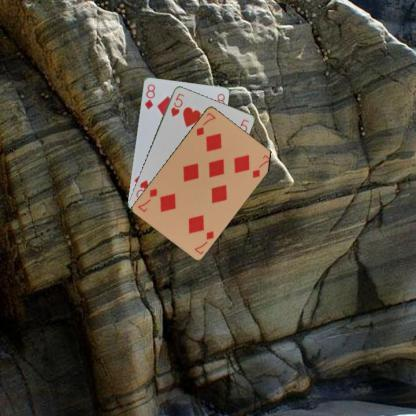5h: (168, 90, 186, 117)
7d: (192, 228, 215, 255), (194, 110, 216, 138)
8d: (142, 82, 156, 110)
